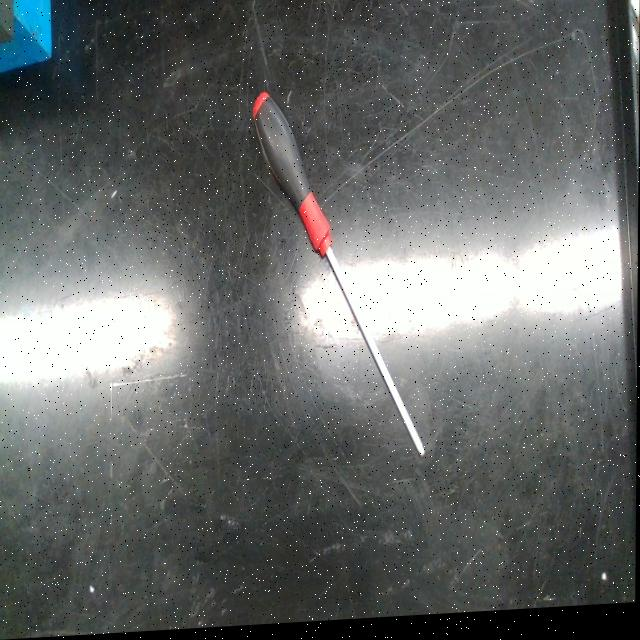Screwdriver: (253, 94, 426, 461)
